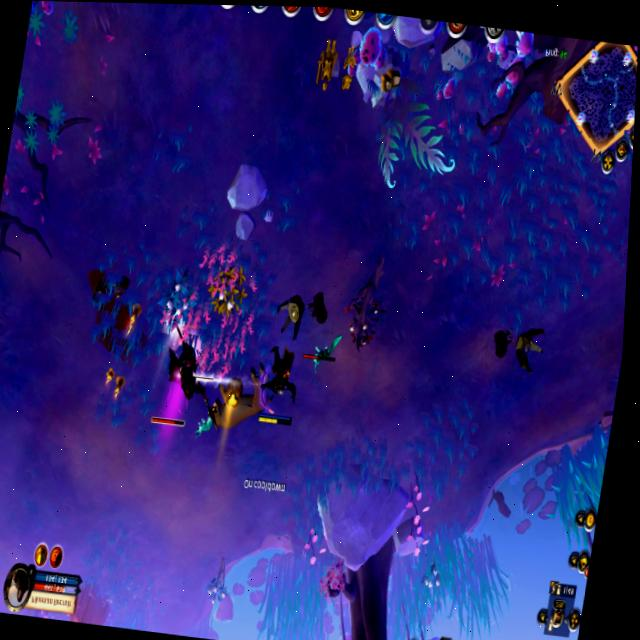hide: (338, 247, 399, 358), (200, 550, 238, 615)
mob: (206, 360, 278, 440)
ore: (145, 321, 208, 434)
red: (251, 339, 306, 432)
tree: (61, 575, 119, 626)
